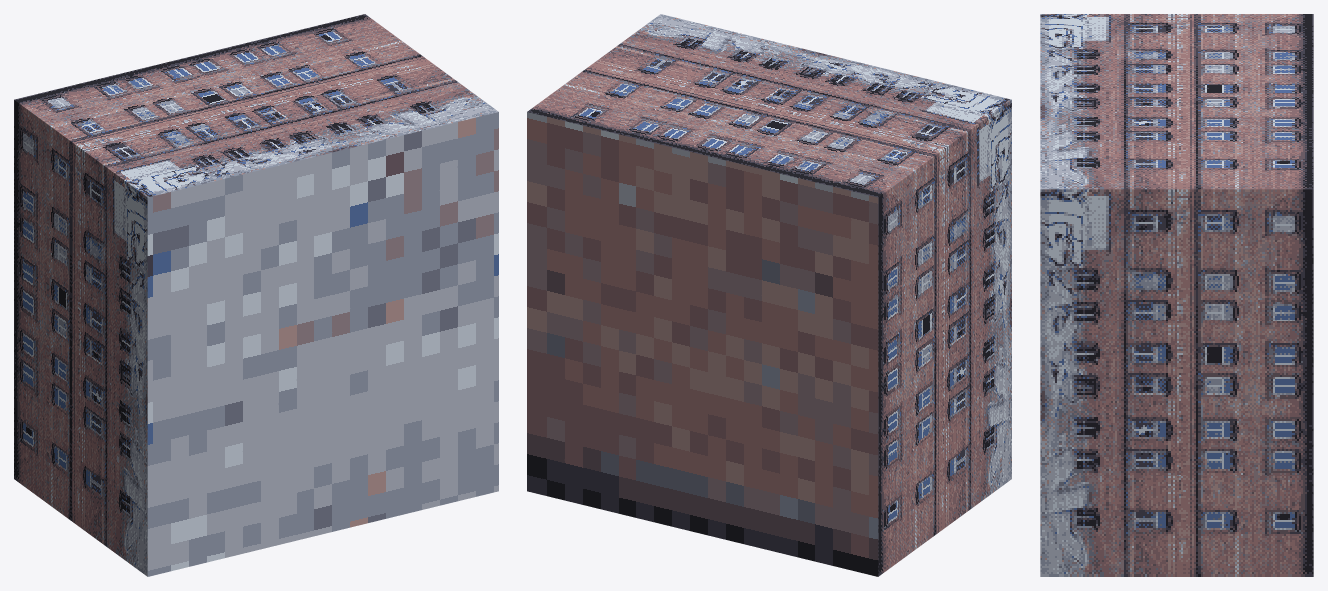
Rendered from Building_2.glb.
3 renders of one model, left to right at view 1: azimuth 30°, elevation 25°; view 2: azimuth 150°, elevation 25°; view 3: azimuth 270°, elevation 25°, orthographic. The views are drawn at different scales.
Visible parts, largest first — view 1: Building 2; view 2: Building 2; view 3: Building 2.
Part boxes in pixels (bbox=[...]): Building 2: bbox=[14, 14, 498, 576]; Building 2: bbox=[527, 14, 1011, 576]; Building 2: bbox=[1040, 14, 1313, 576].
Bounding box in the file's own units: 9.63 × 9.94 × 6.36.
1 material, 1 textured.
